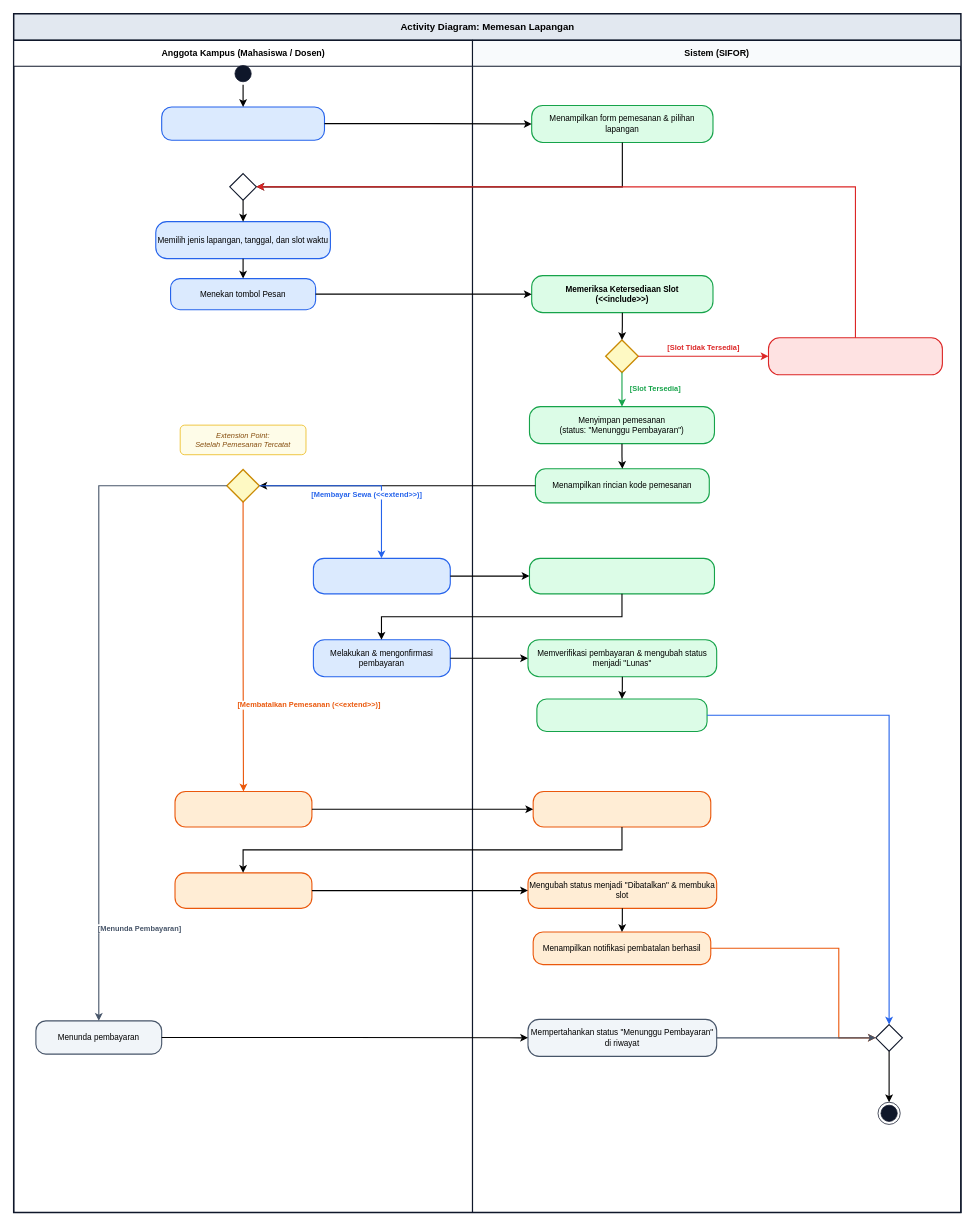
Image size: 974x1225. Some labels were removed from this diagram. The shapes that lost their labels are listed below. From the top down, each one's centre as x and y in pixels, then its label:
point (243, 123): Memilih menu pemesanan lapangan
point (855, 356): Membatalkan simpan & menampilkan pesan slot terisi
point (382, 575): Memilih tindak lanjut Membayar Sewa
point (622, 575): Menampilkan halaman pembayaran & rincian tagihan
point (621, 715): Menampilkan bukti reservasi lunas
point (243, 809): Memilih Membatalkan Pemesanan
point (621, 809): Menampilkan dialog konfirmasi pembatalan
point (243, 890): Menekan konfirmasi pembatalan
